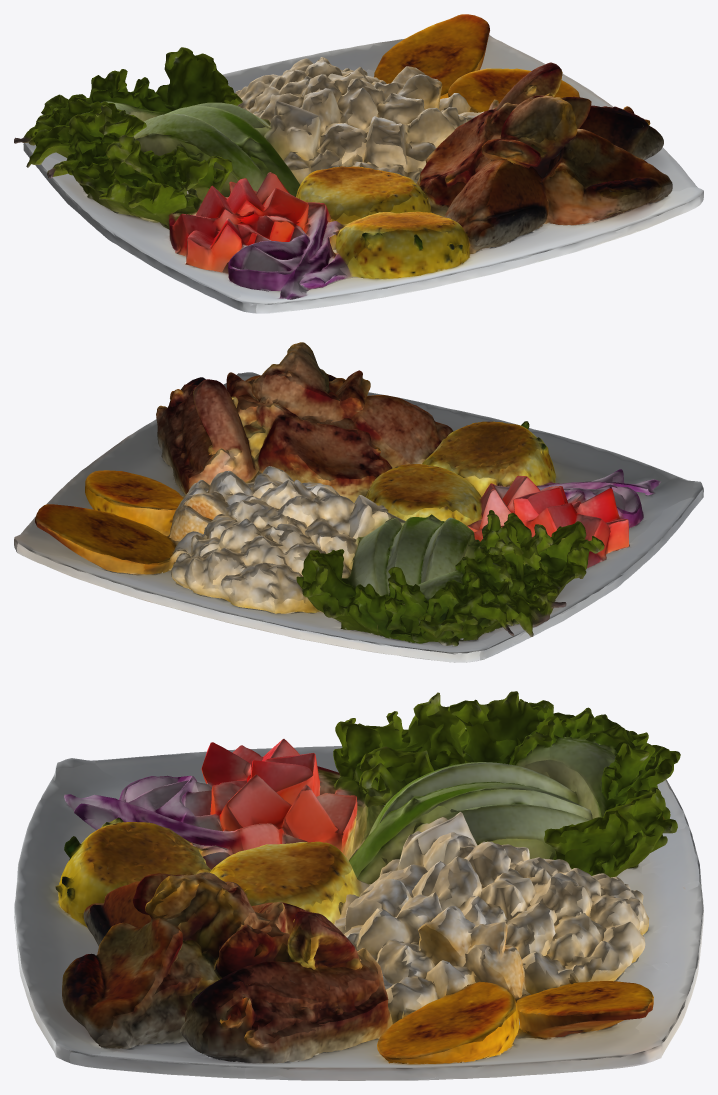
File: std.glb
The picture shows the model from 3 angles, top to bottom: view 1: azimuth 30°, elevation 25°; view 2: azimuth 150°, elevation 25°; view 3: azimuth 270°, elevation 25°; orthographic projection. The views are drawn at different scales.
Visible parts, largest first — view 1: geometry_0; view 2: geometry_0; view 3: geometry_0.
Part boxes in pixels (left/top/right/bottom): geometry_0: left=14, top=14, right=703, bottom=313; geometry_0: left=14, top=342, right=703, bottom=662; geometry_0: left=14, top=691, right=703, bottom=1080.
Size of the model in its own units: 0.2624 by 0.065 by 0.2348.
1 material, 1 textured.
